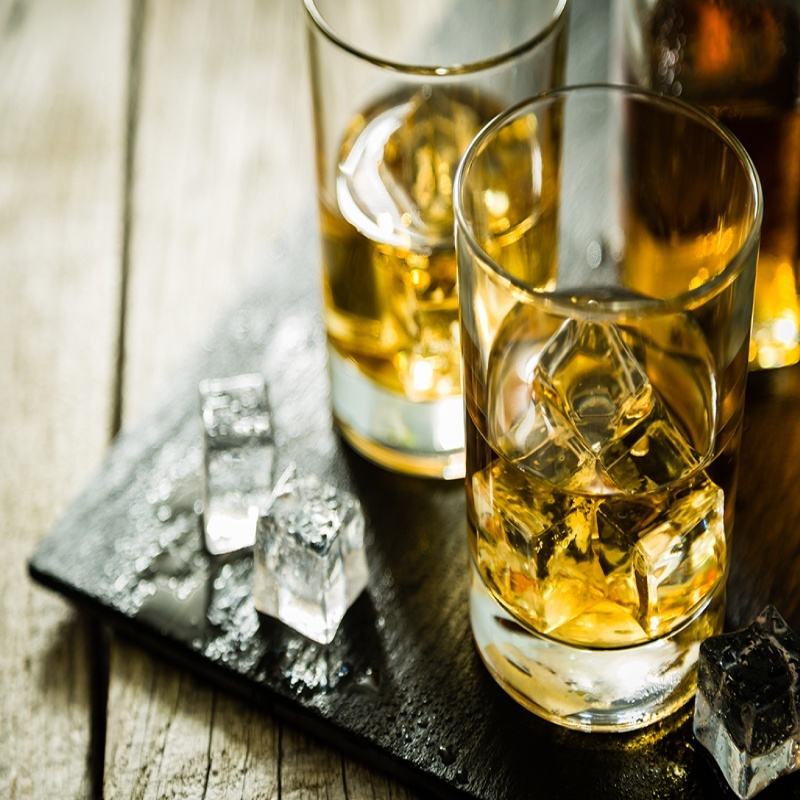whiskey: (470, 85, 745, 704)
